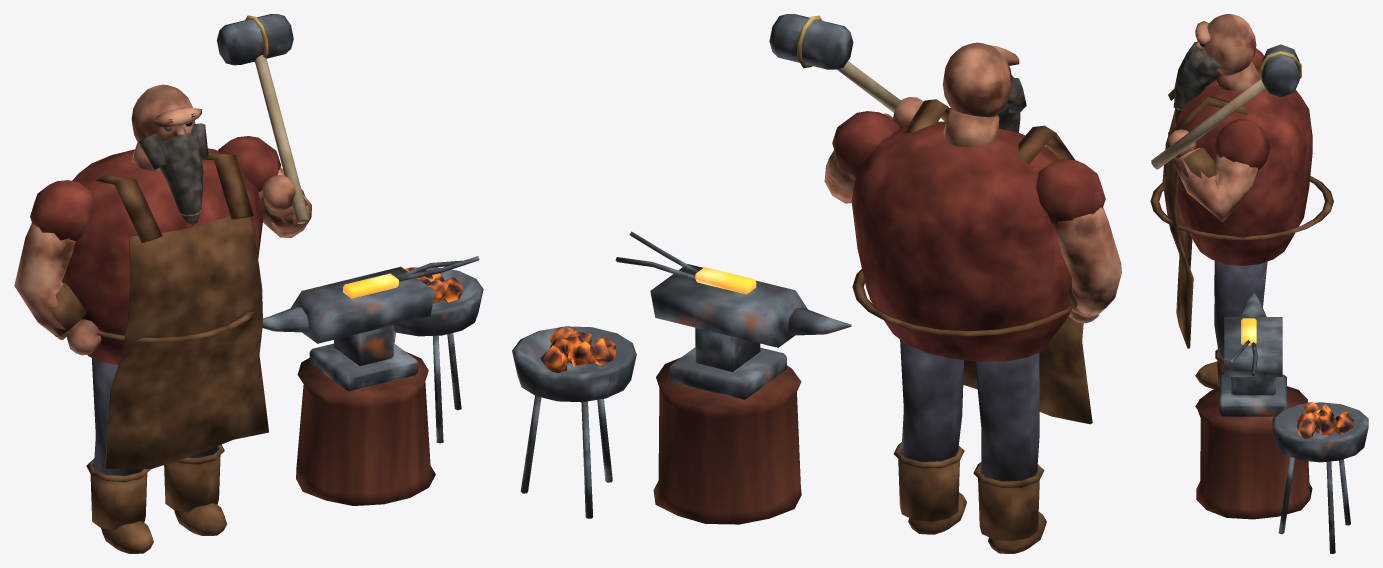
Rendered from Blacksmith.fbx.
The picture shows the model from 3 angles, left to right: view 1: azimuth 30°, elevation 25°; view 2: azimuth 150°, elevation 25°; view 3: azimuth 270°, elevation 25°; orthographic projection. The views are drawn at different scales.
Visible parts, largest first — view 1: Blacksmith; view 2: Blacksmith; view 3: Blacksmith.
Part boxes in pixels (<box>): Blacksmith: <box>14,14,483,553</box>; Blacksmith: <box>512,14,1121,553</box>; Blacksmith: <box>1150,14,1368,553</box>.
Bounding box in the file's own units: 2.23 × 1.99 × 0.9745.
